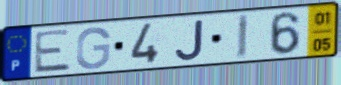4: (129, 21, 162, 66)
6: (269, 10, 304, 57)
E: (33, 27, 74, 75)
G: (75, 25, 113, 71)
I: (236, 13, 251, 61)
J: (173, 18, 206, 63)
